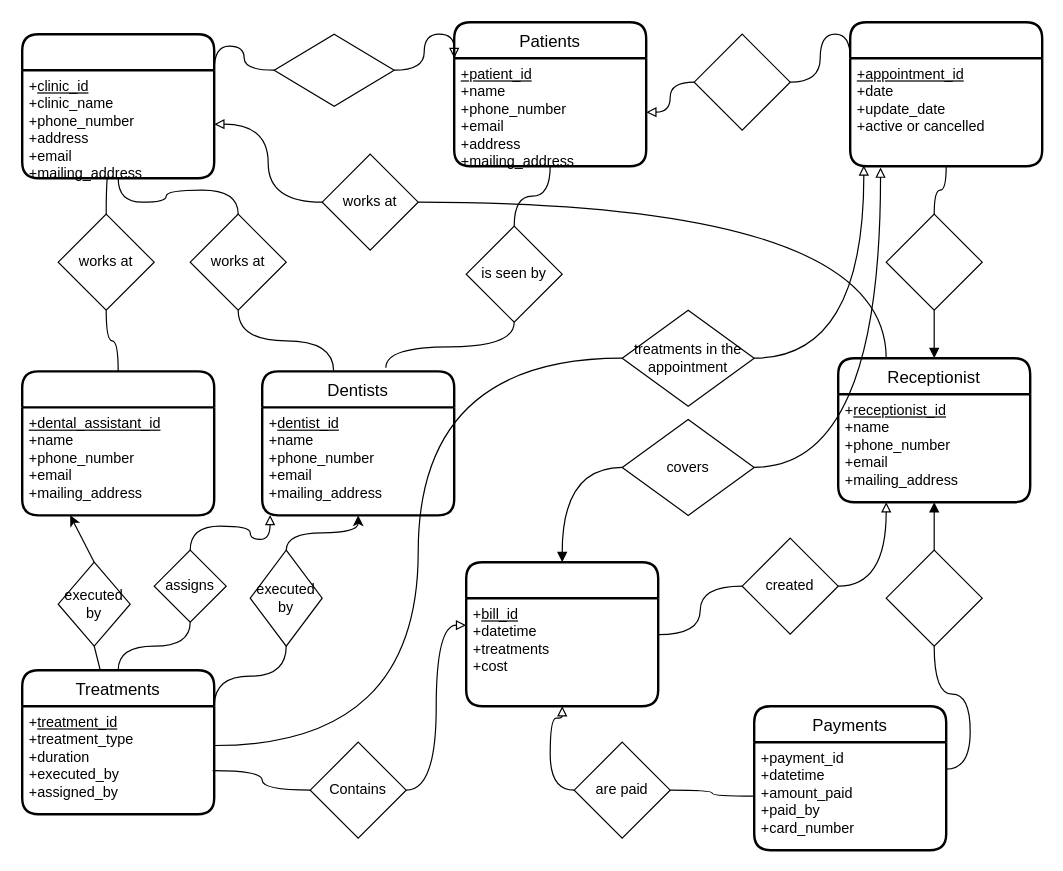
Some shapes in this 1063 by 871 pixel diagram are drawn without their labels. The box of each missing label's shape, as (x1, y1, x2, y2) in pixels:
Appointments: (848, 20, 1043, 167)
Bills: (464, 560, 659, 707)
books: (885, 213, 982, 310)
Dental Assistants: (20, 370, 215, 516)
Dental Clinic: (20, 32, 215, 179)
makes: (693, 33, 790, 130)
processes: (885, 549, 982, 646)
registered with: (273, 33, 394, 106)
